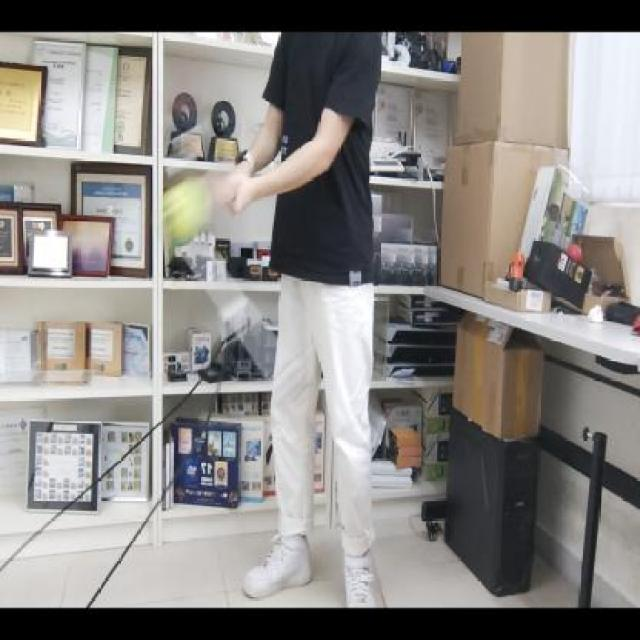baseball: (157, 178, 215, 245)
